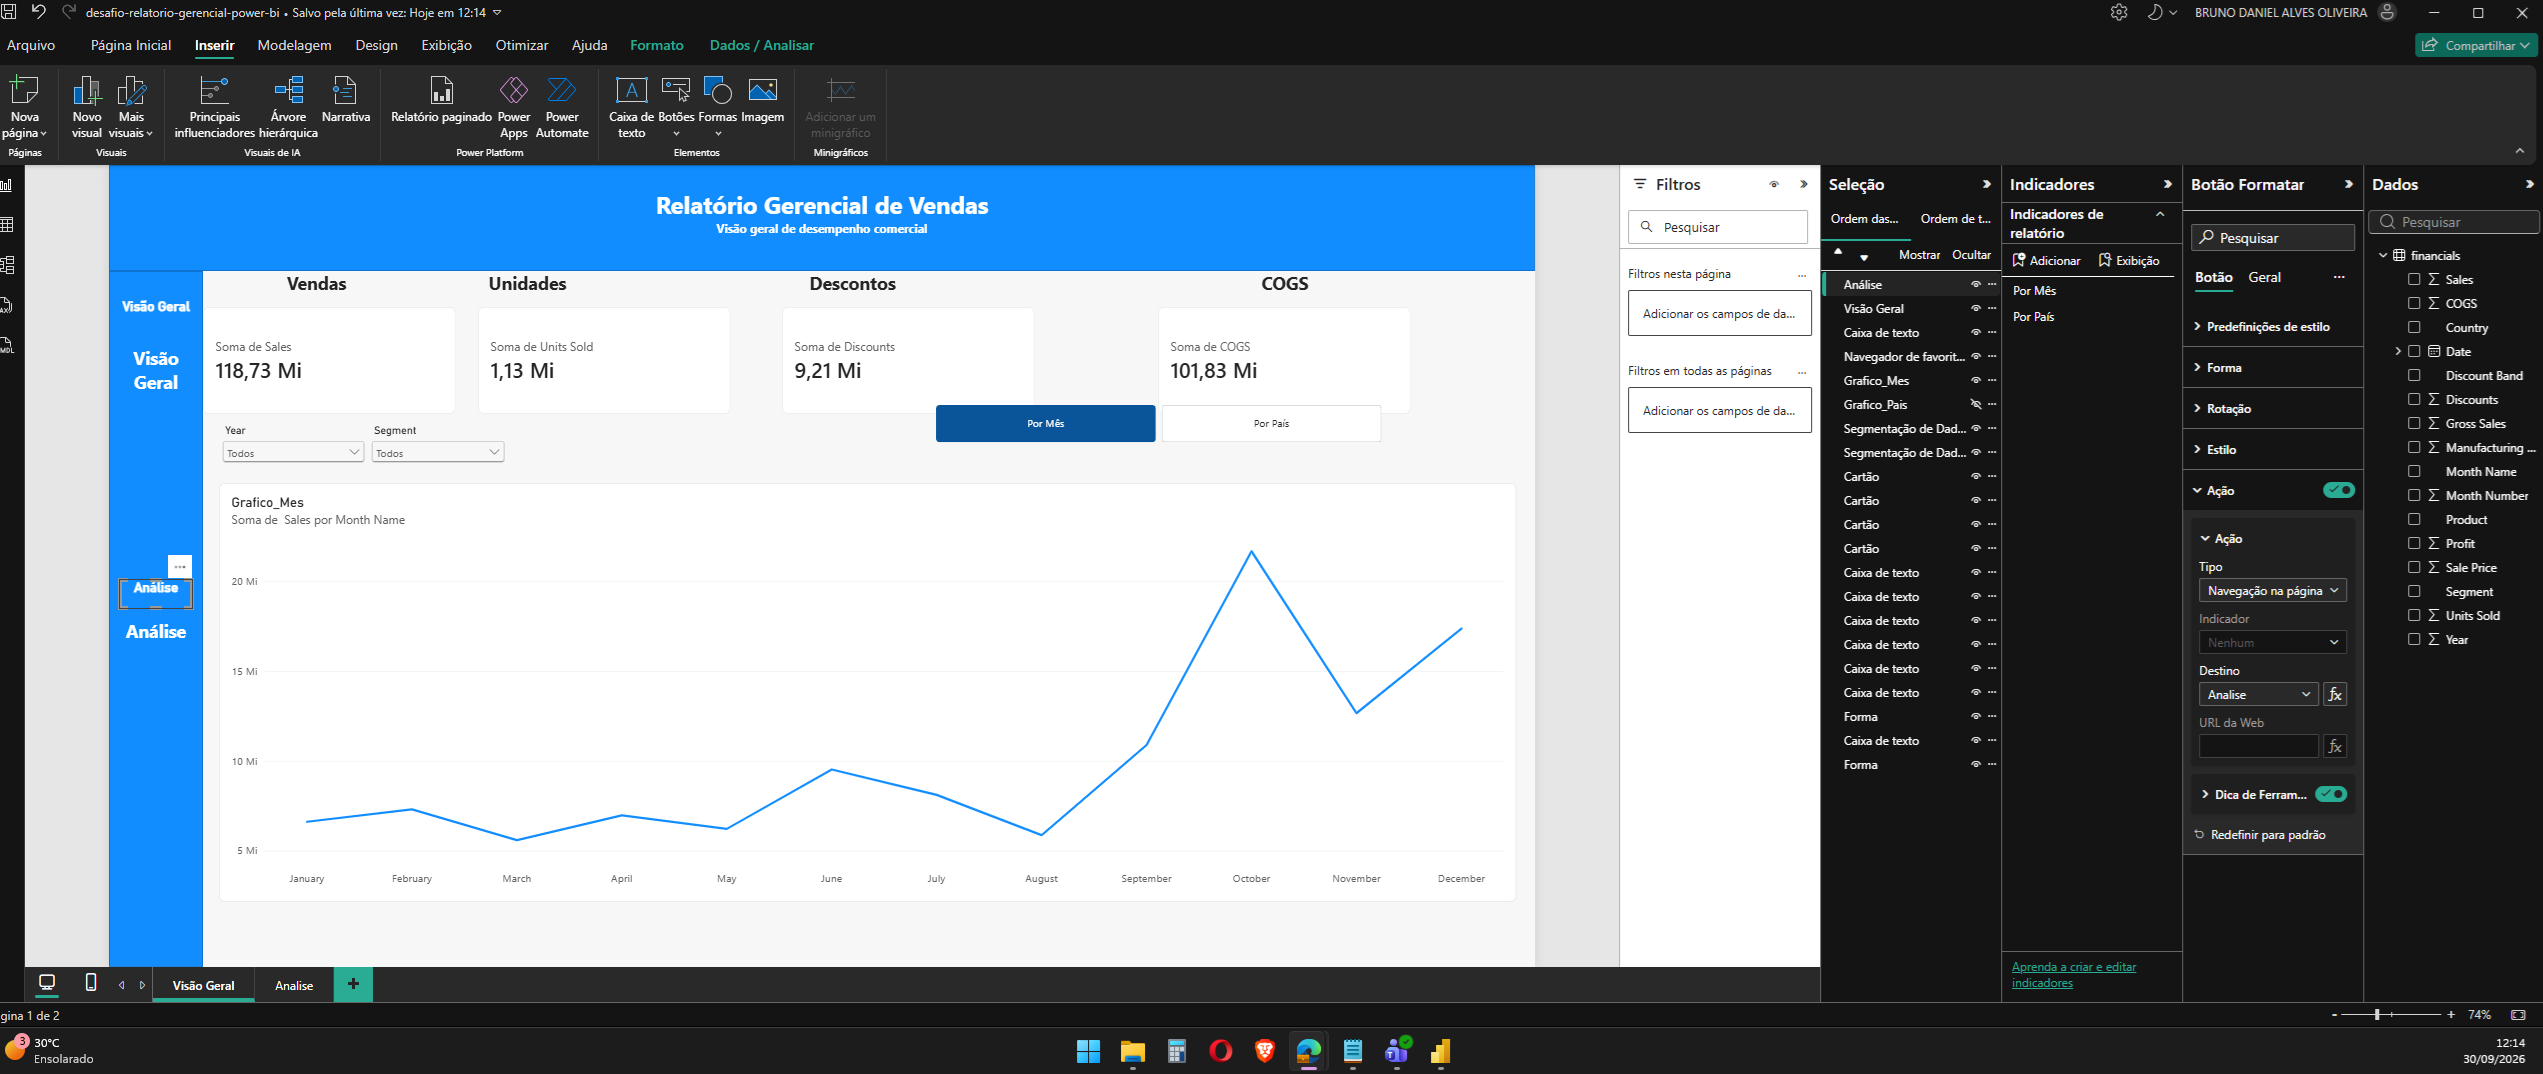

The page's visual inventory and layout, read from the dashboard file:
{"tool":"powerbi","page":{"name":"Visão Geral","canvas":[1920,1080],"ordinal":0},"visuals":[{"type":"shape","box":[0,0,1920.3,142.7],"z":0},{"type":"textbox","box":[0,31,1920.3,111.8],"z":1000},{"type":"shape","box":[0,142.7,126.6,937.3],"z":2000},{"type":"textbox","box":[0,243.7,126.6,70],"z":3000},{"type":"textbox","box":[0,611.4,126.6,145.4],"z":4000},{"type":"textbox","box":[187.2,142.7,184.5,57.9],"z":5000},{"type":"textbox","box":[371.7,142.7,383.8,48.5],"z":6000},{"type":"textbox","box":[755.5,142.7,491.5,57.9],"z":7000},{"type":"textbox","box":[1247,142.7,673.3,76.8],"z":8000},{"type":"cardVisual","fields":{"Data":["Sum(financials. Sales)"]},"box":[126.6,191.2,340.7,144.1],"z":9000},{"type":"cardVisual","fields":{"Data":["Sum(financials.Units Sold)"]},"box":[496.9,191.2,340.7,144.1],"z":10000},{"type":"cardVisual","fields":{"Data":["Sum(financials.Discounts)"]},"box":[906.3,191.2,340.7,144.1],"z":11000},{"type":"cardVisual","fields":{"Data":["Sum(financials.COGS)"]},"box":[1412.6,191.2,340.7,144.1],"z":12000},{"type":"slicer","fields":{"Values":["financials.Segment"]},"box":[348.8,348.8,188.5,78.1],"z":13000},{"type":"slicer","fields":{"Values":["financials.Year"]},"box":[148.1,348.8,200.6,79.5],"z":14000},{"type":"lineChart","title":"Grafico_Mes","fields":{"Category":["financials.Month Name"],"Y":["Sum(financials. Sales)"]},"box":[148.1,428.2,1746.6,564.2],"z":16000},{"type":"bookmarkNavigator","box":[1113.7,323.2,600,50],"z":17000},{"type":"textbox","box":[1754,220,166,150],"z":17001},{"type":"actionButton","title":"Visão Geral","box":[13.5,179.1,100,40],"z":17002},{"type":"actionButton","title":"Análise","box":[13.5,557.5,100,40],"z":17003}]}

Visuals, with their boxes on the page's 1920x1080 design canvas (x1, y1, x2, y2). These are canvas units, not pixel positions in the 2543x1074 screenshot, which may show the page scaled, cropped or inside an application window:
shape: <bbox>0, 0, 1920, 143</bbox>
textbox: <bbox>0, 31, 1920, 143</bbox>
shape: <bbox>0, 143, 127, 1080</bbox>
textbox: <bbox>0, 244, 127, 314</bbox>
textbox: <bbox>0, 611, 127, 757</bbox>
textbox: <bbox>187, 143, 372, 201</bbox>
textbox: <bbox>372, 143, 756, 191</bbox>
textbox: <bbox>756, 143, 1247, 201</bbox>
textbox: <bbox>1247, 143, 1920, 220</bbox>
cardVisual - Sum(financials. Sales): <bbox>127, 191, 467, 335</bbox>
cardVisual - Sum(financials.Units Sold): <bbox>497, 191, 838, 335</bbox>
cardVisual - Sum(financials.Discounts): <bbox>906, 191, 1247, 335</bbox>
cardVisual - Sum(financials.COGS): <bbox>1413, 191, 1753, 335</bbox>
slicer - financials.Segment: <bbox>349, 349, 537, 427</bbox>
slicer - financials.Year: <bbox>148, 349, 349, 428</bbox>
"Grafico_Mes" lineChart: <bbox>148, 428, 1895, 992</bbox>
bookmarkNavigator: <bbox>1114, 323, 1714, 373</bbox>
textbox: <bbox>1754, 220, 1920, 370</bbox>
"Visão Geral" actionButton: <bbox>14, 179, 114, 219</bbox>
"Análise" actionButton: <bbox>14, 558, 114, 598</bbox>
